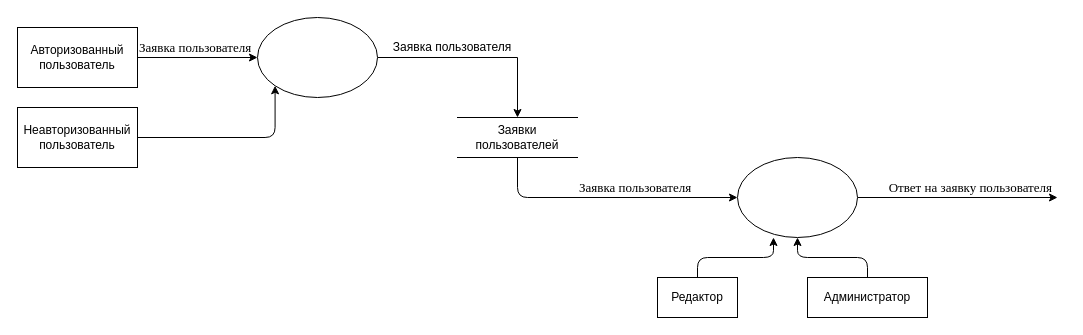
Image size: 1083x335. Some labels were removed from this diagram. Each missing label, with the centre of its shape:
"Зафиксировать заявку пользователя" goes at (317,57).
"Рассмотреть заявку пользователя" goes at (797,197).
